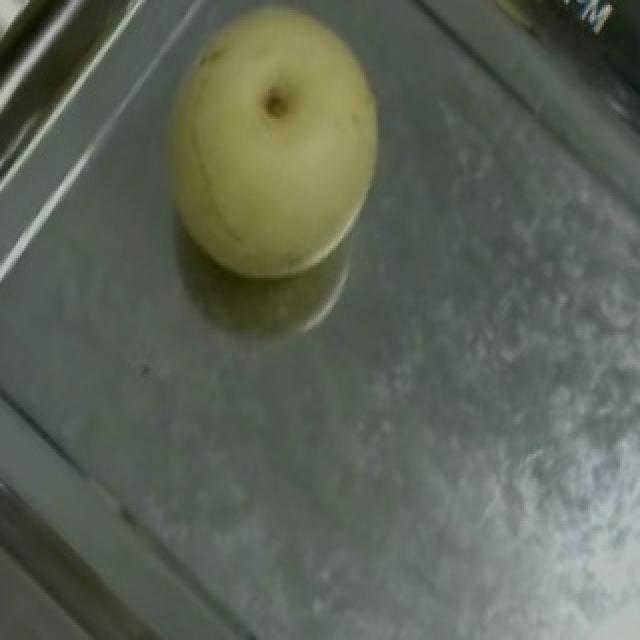Fruit: (114, 0, 424, 318)
